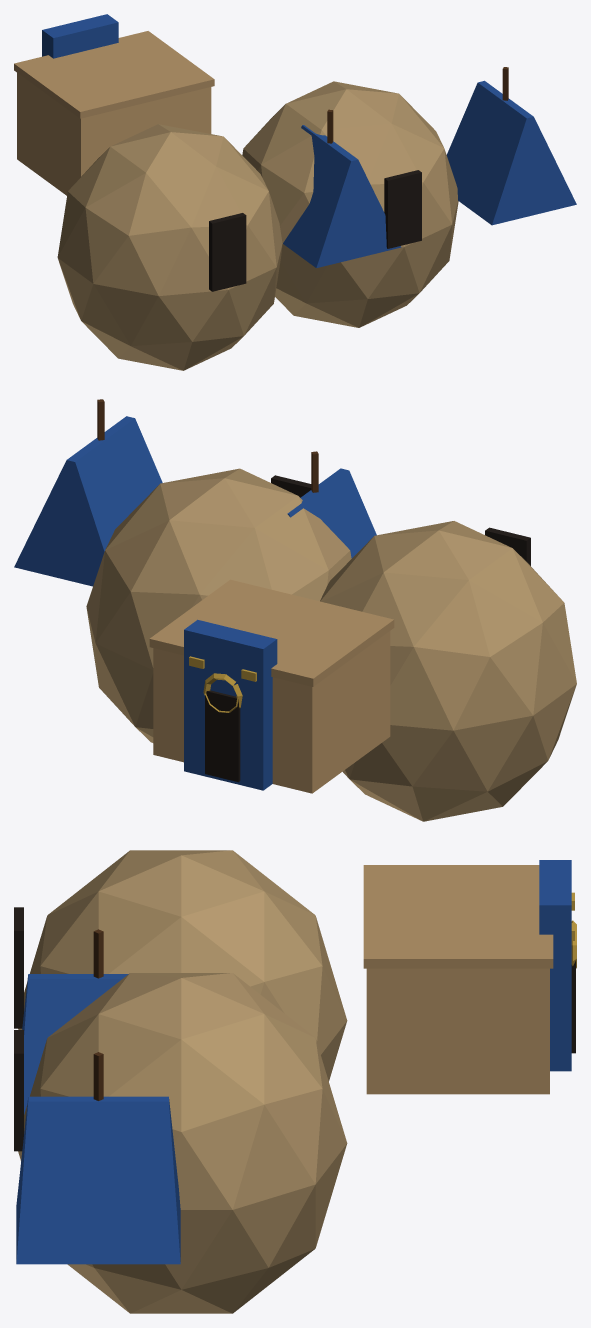
File: minotaur_row_broken.glb
3 renders of one model, top to bottom at view 1: azimuth 30°, elevation 25°; view 2: azimuth 150°, elevation 25°; view 3: azimuth 270°, elevation 25°, orthographic. The views are drawn at different scales.
Parts seen in each view (by area): view 1: minotaur_row_piece6, minotaur_row_piece4, minotaur_row_piece5, minotaur_row_piece8, minotaur_row_piece10, minotaur_row_piece7, minotaur_row_piece1, minotaur_row_piece13, minotaur_row_piece2, minotaur_row_piece3, minotaur_row_piece0, minotaur_row_piece11; view 2: minotaur_row_piece8, minotaur_row_piece1, minotaur_row_piece5, minotaur_row_piece4, minotaur_row_piece6, minotaur_row_piece13, minotaur_row_piece12, minotaur_row_piece11, minotaur_row_piece3, minotaur_row_piece10, minotaur_row_piece0, minotaur_row_piece2; view 3: minotaur_row_piece5, minotaur_row_piece8, minotaur_row_piece4, minotaur_row_piece12, minotaur_row_piece10, minotaur_row_piece11, minotaur_row_piece2, minotaur_row_piece7, minotaur_row_piece0, minotaur_row_piece3, minotaur_row_piece1, minotaur_row_piece13 (+1 smaller).
Boxes of the visible parts, x1=… form: minotaur_row_piece6: x1=62, y1=160, x2=272, y2=370; minotaur_row_piece4: x1=89, y1=124, x2=391, y2=304; minotaur_row_piece5: x1=341, y1=67, x2=576, y2=273; minotaur_row_piece8: x1=14, y1=14, x2=214, y2=142; minotaur_row_piece10: x1=266, y1=109, x2=426, y2=272; minotaur_row_piece7: x1=290, y1=104, x2=436, y2=327; minotaur_row_piece1: x1=51, y1=93, x2=298, y2=364; minotaur_row_piece13: x1=256, y1=81, x2=343, y2=178; minotaur_row_piece2: x1=51, y1=91, x2=144, y2=143; minotaur_row_piece3: x1=17, y1=127, x2=52, y2=184; minotaur_row_piece0: x1=216, y1=82, x2=350, y2=355; minotaur_row_piece11: x1=242, y1=106, x2=283, y2=170; minotaur_row_piece8: x1=149, y1=579, x2=358, y2=765; minotaur_row_piece1: x1=342, y1=614, x2=550, y2=821; minotaur_row_piece5: x1=14, y1=399, x2=257, y2=656; minotaur_row_piece4: x1=333, y1=468, x2=507, y2=637; minotaur_row_piece6: x1=456, y1=531, x2=576, y2=756; minotaur_row_piece13: x1=165, y1=480, x2=334, y2=597; minotaur_row_piece12: x1=92, y1=589, x2=162, y2=742; minotaur_row_piece11: x1=207, y1=530, x2=412, y2=621; minotaur_row_piece3: x1=158, y1=709, x2=356, y2=793; minotaur_row_piece10: x1=241, y1=451, x2=342, y2=570; minotaur_row_piece0: x1=94, y1=479, x2=334, y2=621; minotaur_row_piece2: x1=316, y1=600, x2=371, y2=652; minotaur_row_piece5: x1=16, y1=977, x2=294, y2=1292; minotaur_row_piece8: x1=316, y1=860, x2=576, y2=1129; minotaur_row_piece4: x1=14, y1=850, x2=293, y2=1031; minotaur_row_piece12: x1=192, y1=1064, x2=347, y2=1313; minotaur_row_piece10: x1=14, y1=929, x2=156, y2=1161; minotaur_row_piece11: x1=197, y1=900, x2=299, y2=1010; minotaur_row_piece2: x1=281, y1=865, x2=445, y2=1056; minotaur_row_piece7: x1=67, y1=980, x2=250, y2=1313; minotaur_row_piece0: x1=142, y1=974, x2=319, y2=1254; minotaur_row_piece3: x1=366, y1=1042, x2=575, y2=1094; minotaur_row_piece1: x1=291, y1=865, x2=434, y2=1081; minotaur_row_piece13: x1=153, y1=973, x2=317, y2=1059.
Size of the model in its own units: 4.43 by 2.3 by 3.39.
